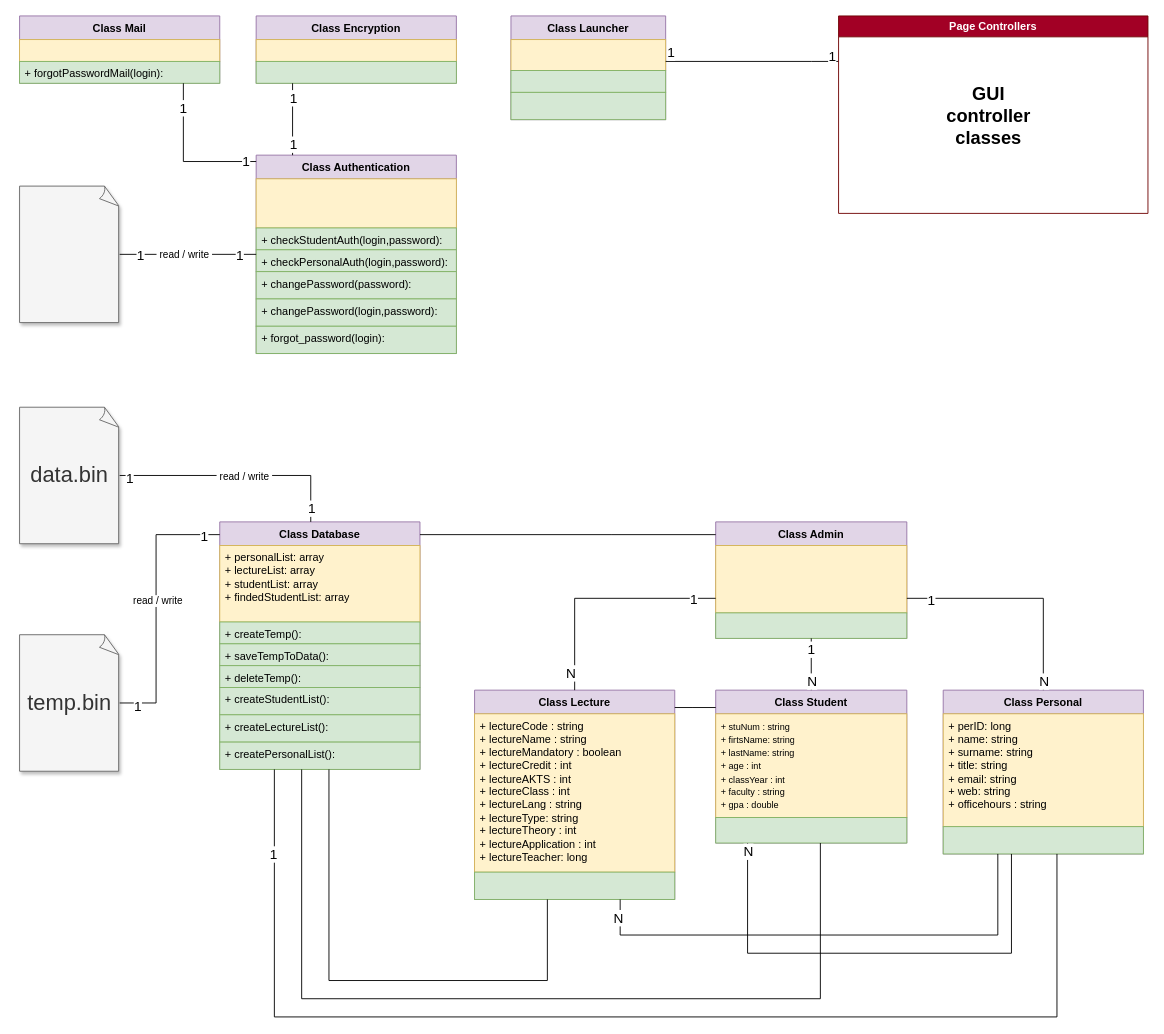
The diagram is 1164 pixels wide and 1034 high, and some of its shapes have lost their labels. The centre of each missing label's shape, as x and y in pixels:
+ currentUser : string + authenticated : boolean: (x=355, y=203)
+ encryptString(input):: (x=355, y=72)
+ Lecture(): (x=574, y=885)
+ main(): (x=588, y=81)
+ Personal(): (x=1042, y=840)
auth.bin: (x=70, y=255)
